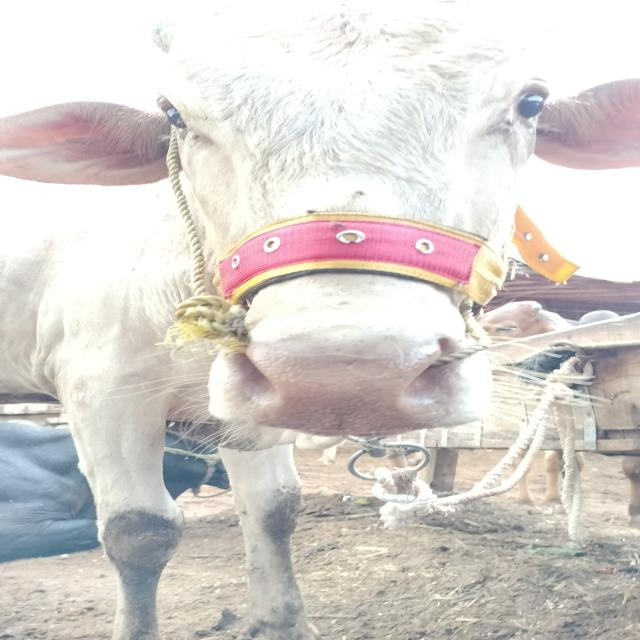muzzles: (223, 322, 469, 440)
